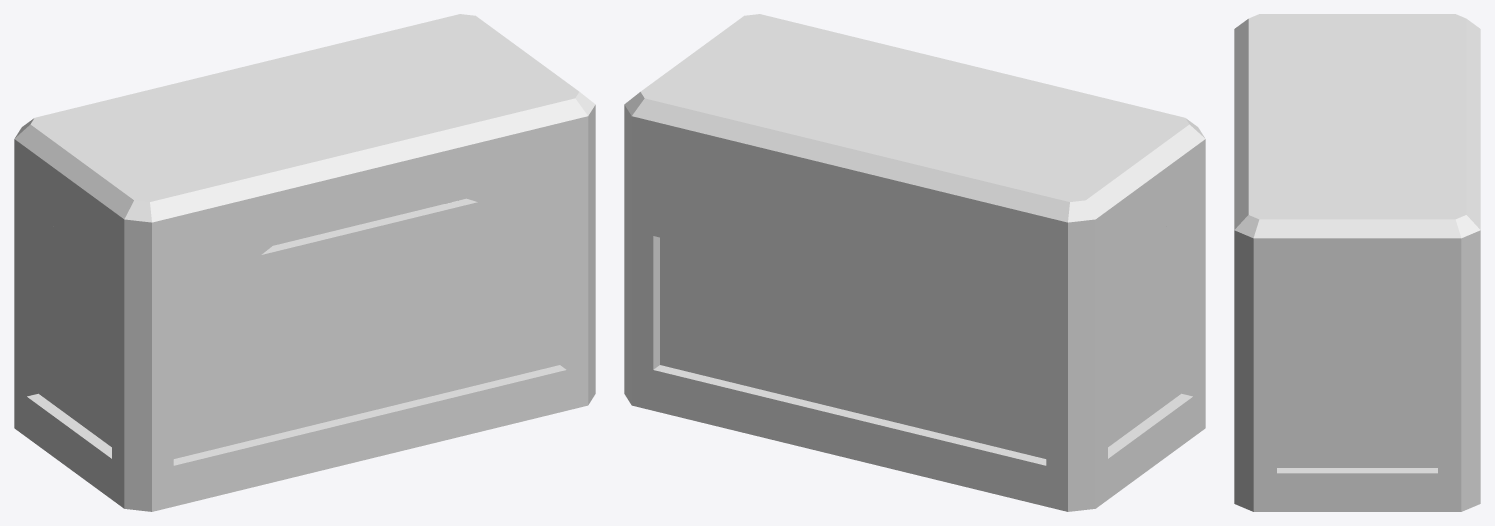
Rendered from Cont_Chest_Static.fbx.
The picture shows the model from 3 angles, left to right: view 1: azimuth 30°, elevation 25°; view 2: azimuth 150°, elevation 25°; view 3: azimuth 270°, elevation 25°; orthographic projection. The views are drawn at different scales.
Parts seen in each view (by area): view 1: Cont_Chest_Static; view 2: Cont_Chest_Static; view 3: Cont_Chest_Static.
Boxes of the visible parts, x1,y1,x2,y2 form: Cont_Chest_Static: (14, 14, 595, 511); Cont_Chest_Static: (624, 14, 1205, 511); Cont_Chest_Static: (1234, 14, 1480, 511).
Size of the model in its own units: 1.34 by 0.823 by 0.6414.
